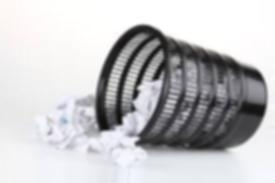Bote de Basura: (37, 23, 266, 157)
